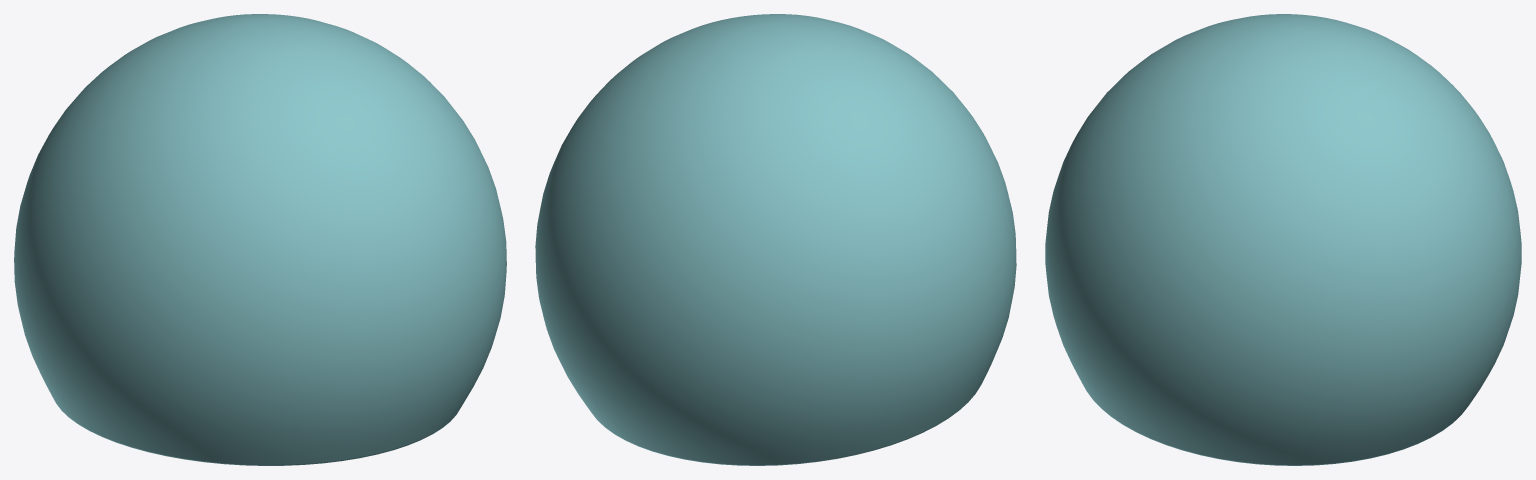
3 renders of one model, left to right at view 1: azimuth 30°, elevation 25°; view 2: azimuth 150°, elevation 25°; view 3: azimuth 270°, elevation 25°, orthographic. The views are drawn at different scales.
Parts seen in each view (by area): view 1: 右侧眼球后段; view 2: 右侧眼球后段; view 3: 右侧眼球后段.
Part boxes in pixels (x1,y1,x2,y2): 右侧眼球后段: [14, 14, 506, 465]; 右侧眼球后段: [535, 14, 1016, 465]; 右侧眼球后段: [1045, 14, 1521, 465].
Bounding box in the file's own units: 0.0352 × 0.0286 × 0.0351.
